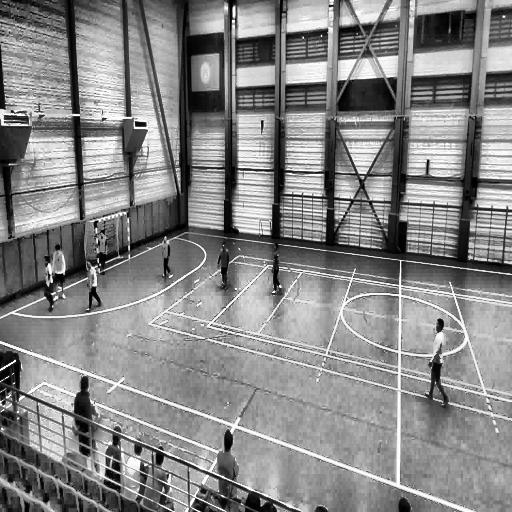player: (73, 376, 102, 478), (424, 318, 450, 406), (218, 428, 238, 500), (41, 253, 56, 314), (52, 245, 66, 303), (87, 260, 102, 309), (271, 241, 284, 294), (96, 228, 109, 278), (218, 243, 231, 289), (162, 234, 172, 279)
